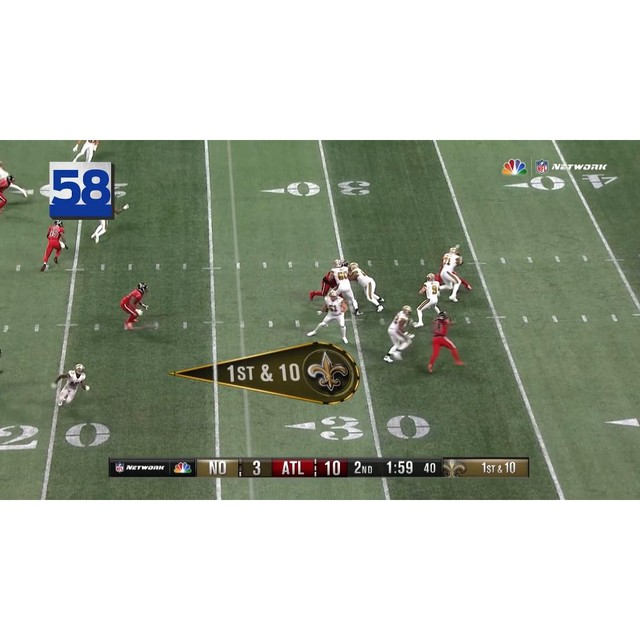american-football-player: (427, 310, 466, 374), (306, 288, 349, 343), (348, 262, 385, 313), (383, 305, 415, 363), (439, 247, 470, 302), (414, 271, 443, 326), (53, 364, 89, 408), (309, 259, 344, 304), (334, 262, 362, 316), (39, 219, 66, 272), (121, 282, 148, 330), (72, 140, 99, 163), (90, 221, 107, 244)
